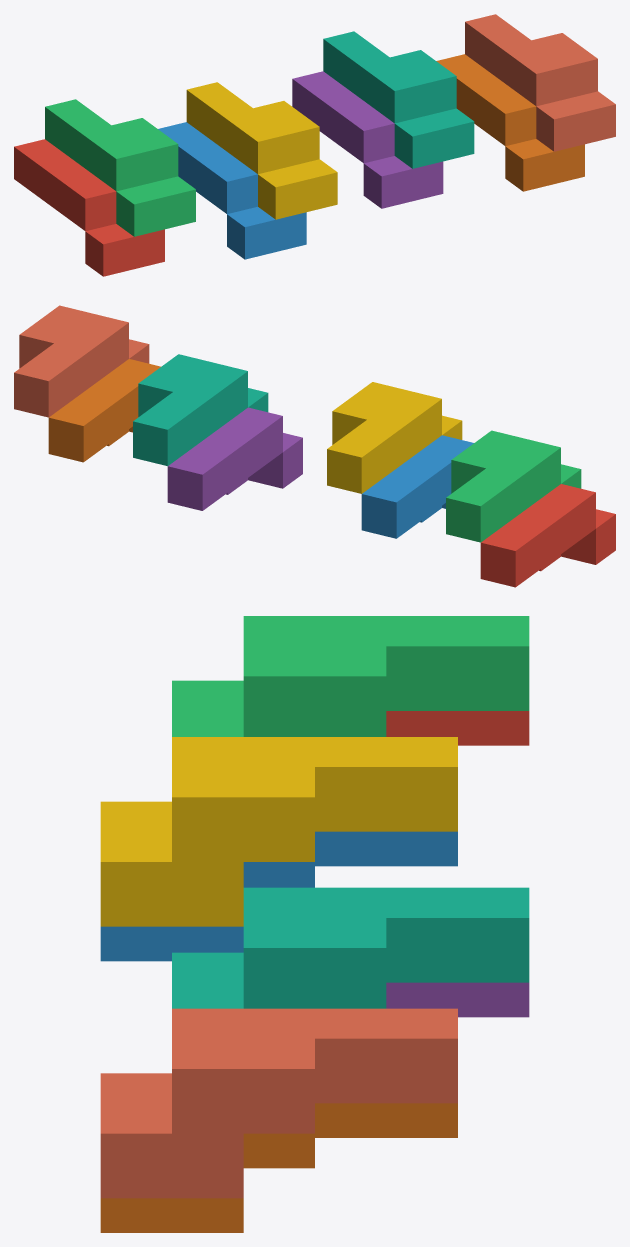
The model's file is tiling.obj.
The picture shows the model from 3 angles, top to bottom: view 1: azimuth 30°, elevation 25°; view 2: azimuth 150°, elevation 25°; view 3: azimuth 270°, elevation 25°; orthographic projection. The views are drawn at different scales.
Visible parts, largest first — view 1: copy_1_domain_7, copy_1_domain_3, copy_1_domain_4, copy_1_domain_8, copy_1_domain_1, copy_1_domain_5, copy_1_domain_6, copy_1_domain_2; view 2: copy_1_domain_3, copy_1_domain_8, copy_1_domain_7, copy_1_domain_4, copy_1_domain_5, copy_1_domain_1, copy_1_domain_2, copy_1_domain_6; view 3: copy_1_domain_8, copy_1_domain_4, copy_1_domain_7, copy_1_domain_3, copy_1_domain_6, copy_1_domain_2, copy_1_domain_5, copy_1_domain_1.
Boxes of the visible parts, x1,y1,x2,y2 form: copy_1_domain_7: (323, 31, 474, 168); copy_1_domain_3: (45, 99, 195, 236); copy_1_domain_4: (186, 82, 337, 219); copy_1_domain_8: (465, 14, 615, 151); copy_1_domain_1: (14, 139, 164, 276); copy_1_domain_5: (292, 71, 443, 208); copy_1_domain_6: (436, 54, 584, 191); copy_1_domain_2: (158, 122, 306, 259); copy_1_domain_3: (446, 430, 581, 542); copy_1_domain_8: (14, 305, 149, 417); copy_1_domain_7: (133, 354, 268, 466); copy_1_domain_4: (327, 382, 462, 493); copy_1_domain_5: (167, 407, 302, 510); copy_1_domain_1: (480, 484, 615, 587); copy_1_domain_2: (361, 435, 473, 538); copy_1_domain_6: (48, 359, 160, 462); copy_1_domain_8: (100, 1008, 457, 1198); copy_1_domain_4: (100, 737, 457, 926); copy_1_domain_7: (172, 887, 529, 1008); copy_1_domain_3: (172, 616, 529, 736); copy_1_domain_6: (100, 1103, 457, 1232); copy_1_domain_2: (100, 831, 457, 961); copy_1_domain_5: (386, 982, 529, 1017); copy_1_domain_1: (386, 711, 529, 745).
Bounding box in the file's own units: 16 × 3 × 6.
